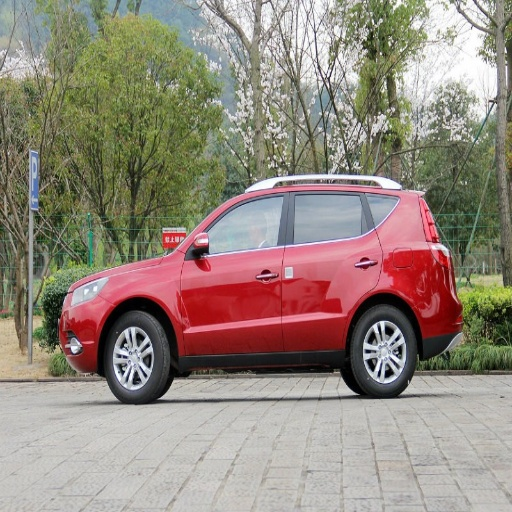back_left_door: (282, 187, 378, 348)
front_left_door: (179, 188, 289, 353)
